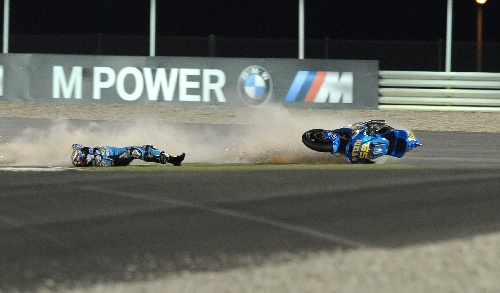fall: (64, 132, 189, 170)
